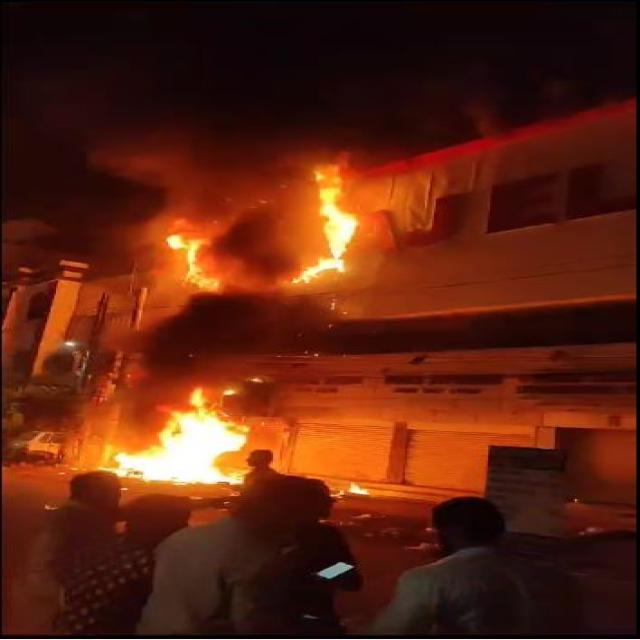fire: (118, 389, 246, 485), (293, 161, 355, 282), (170, 234, 217, 293)
